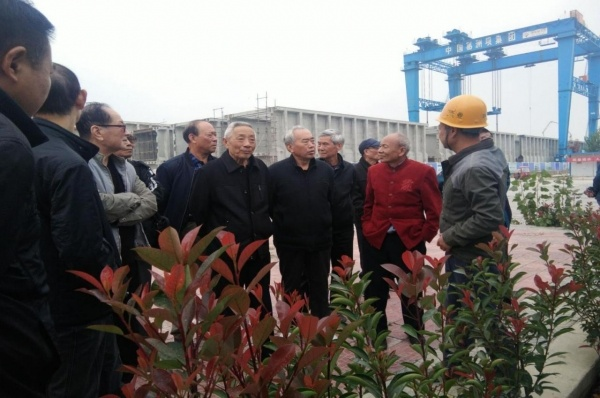none: (1, 1, 58, 126), (34, 60, 85, 132), (75, 98, 123, 152), (221, 119, 259, 161), (374, 130, 411, 168), (183, 119, 218, 157), (283, 124, 317, 159), (315, 123, 344, 159), (113, 128, 136, 158), (356, 136, 380, 162)
yellow: (434, 95, 491, 155)
